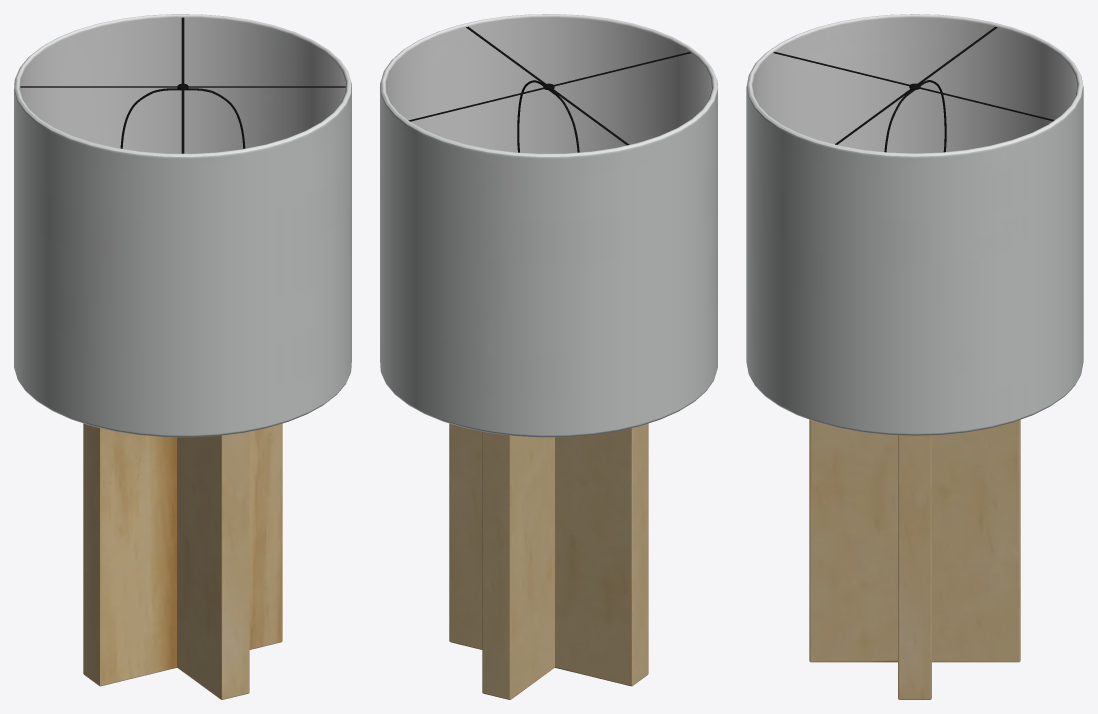
Rendered from lampe_chevet.glb.
The picture shows the model from 3 angles, left to right: view 1: azimuth 30°, elevation 25°; view 2: azimuth 150°, elevation 25°; view 3: azimuth 270°, elevation 25°; orthographic projection.
Visible parts, largest first — view 1: RootNode; view 2: RootNode; view 3: RootNode.
Part boxes in pixels (box(x1,y1,x2,y2)): RootNode: box(14, 14, 351, 699); RootNode: box(380, 14, 717, 699); RootNode: box(746, 14, 1083, 699).
Bounding box in the file's own units: 0.2286 × 0.4282 × 0.2286.
1 material, 1 textured.
